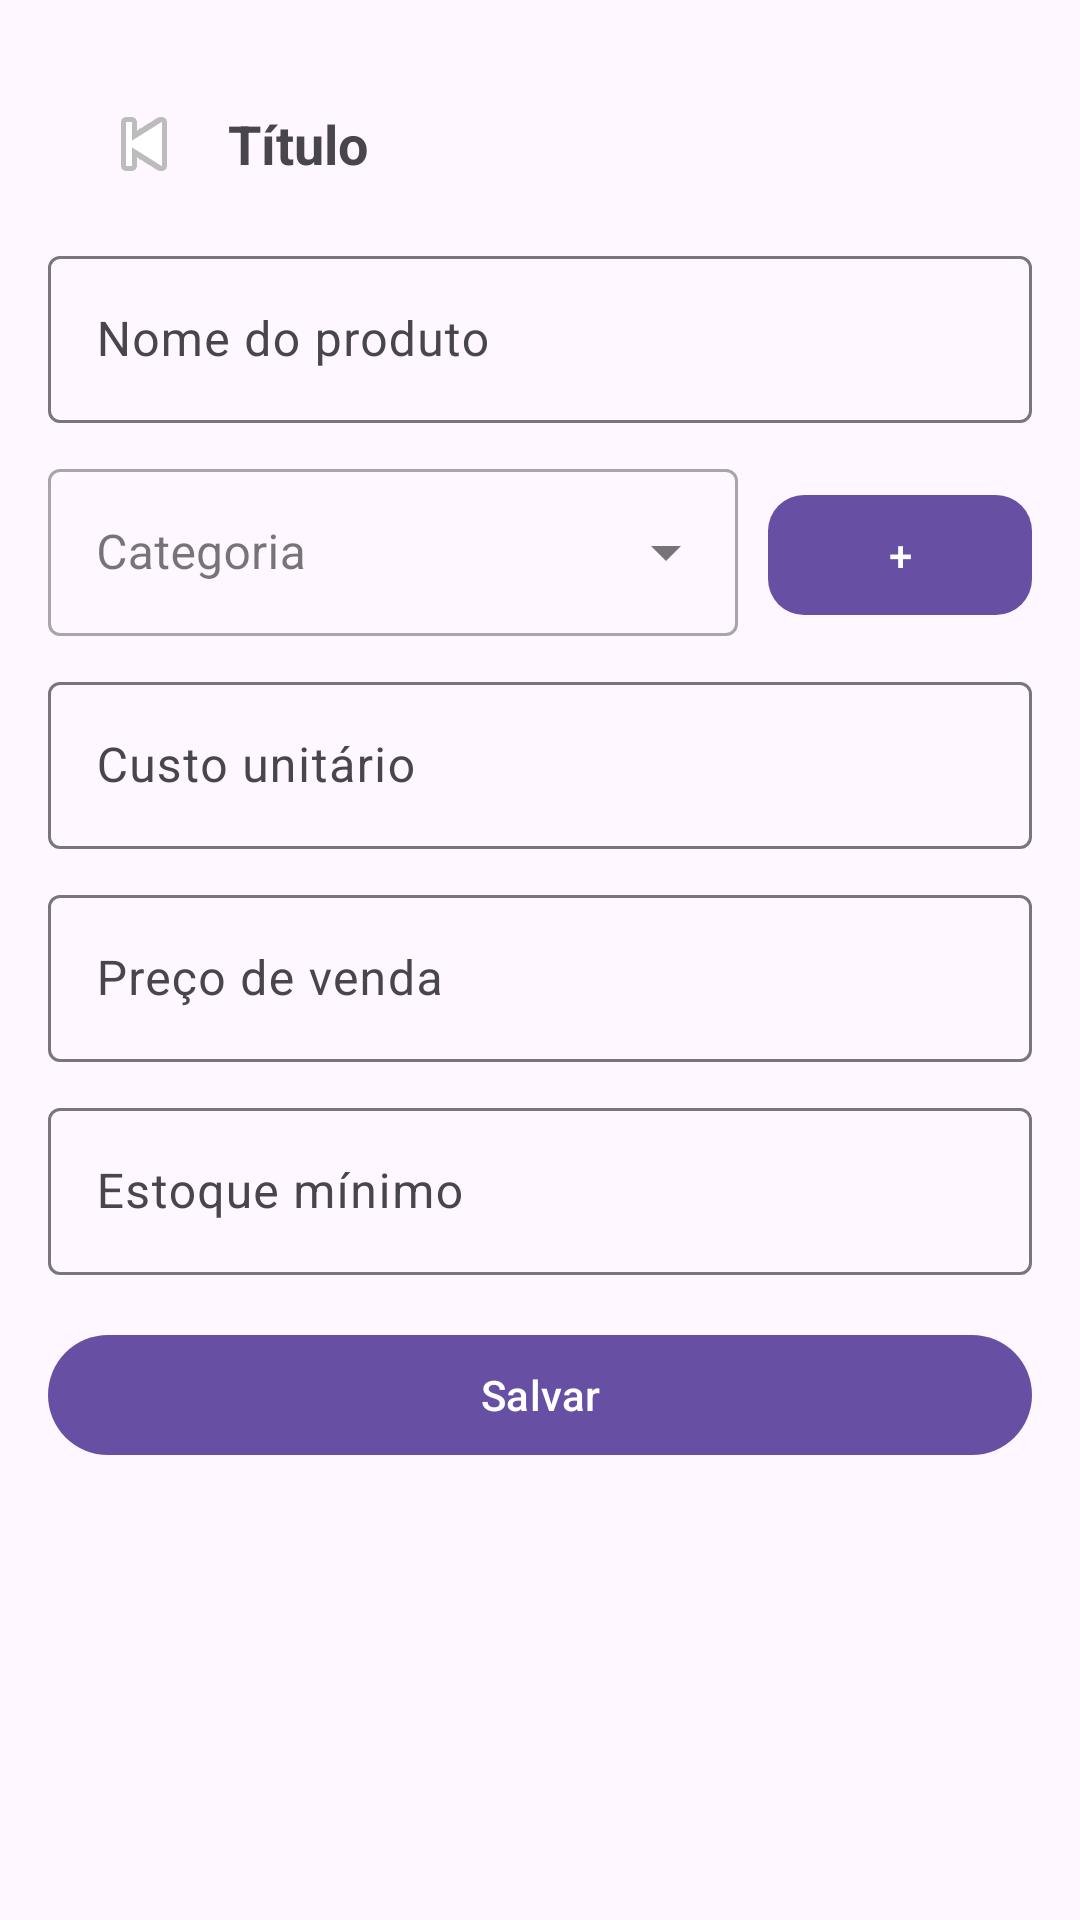

Locate icon controls on the screen. Image size 1080*1920, boxes as Rect(x1, y1, x2, y2).
Voltar: Rect(121, 117, 167, 171)
